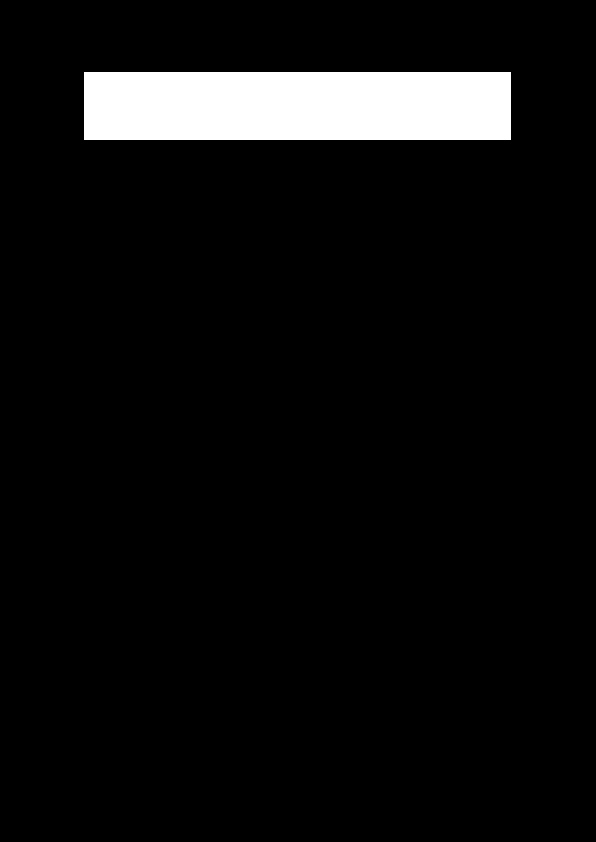table: (84, 72, 510, 139)
